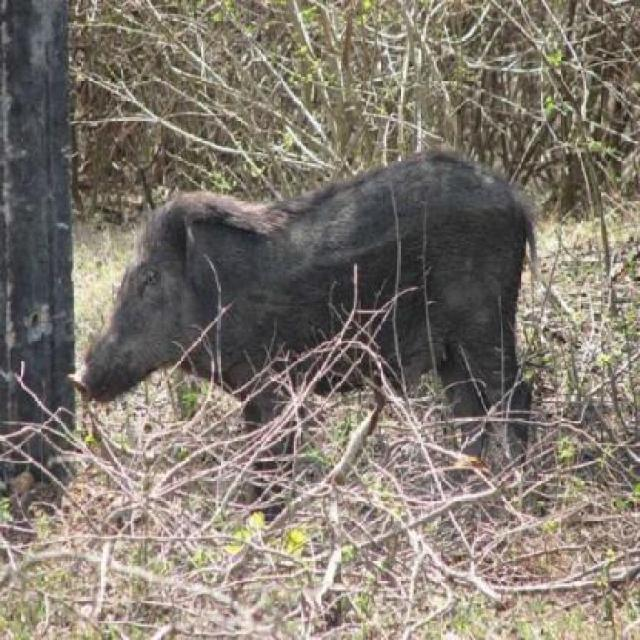pig: (86, 150, 556, 514)
